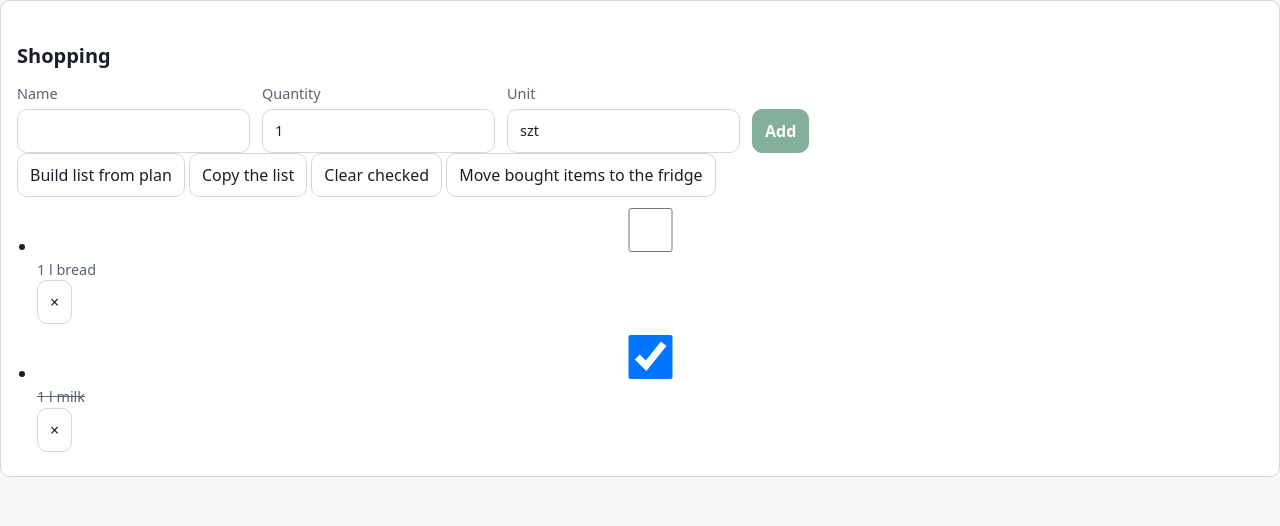
Test case: ShoppingView › moves the checked rows and confirms
Click the button "Move bought items to the fridge". click: click(581, 175)
box: [446,153,716,197]
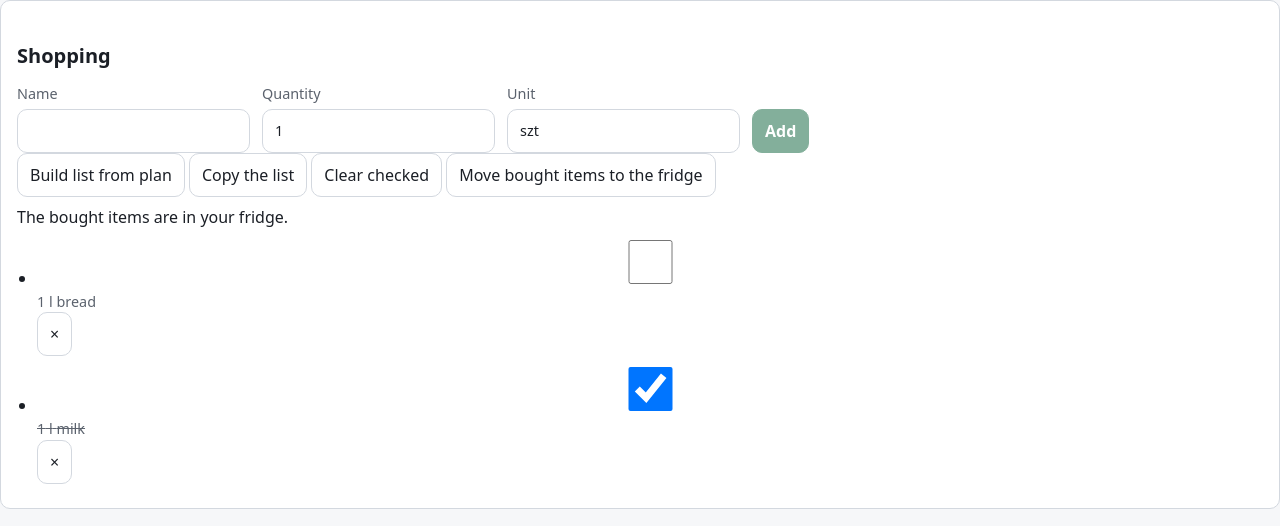
Expected: the text "The bought items are in your fridge." is shown, [17,206,288,228]
